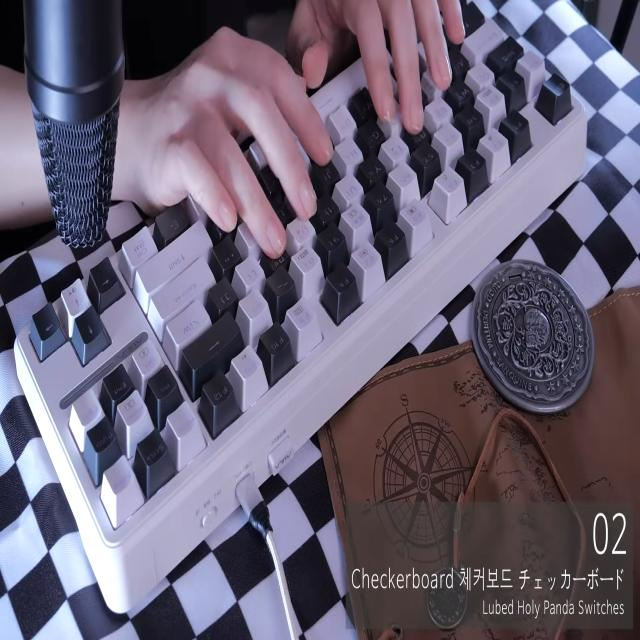keyboard-with-hands: (16, 0, 586, 550)
